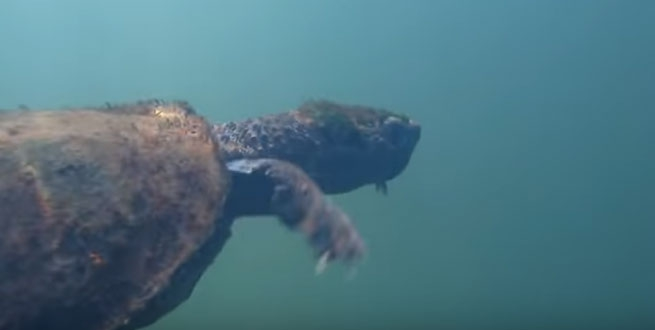trutle: (1, 84, 426, 318)
